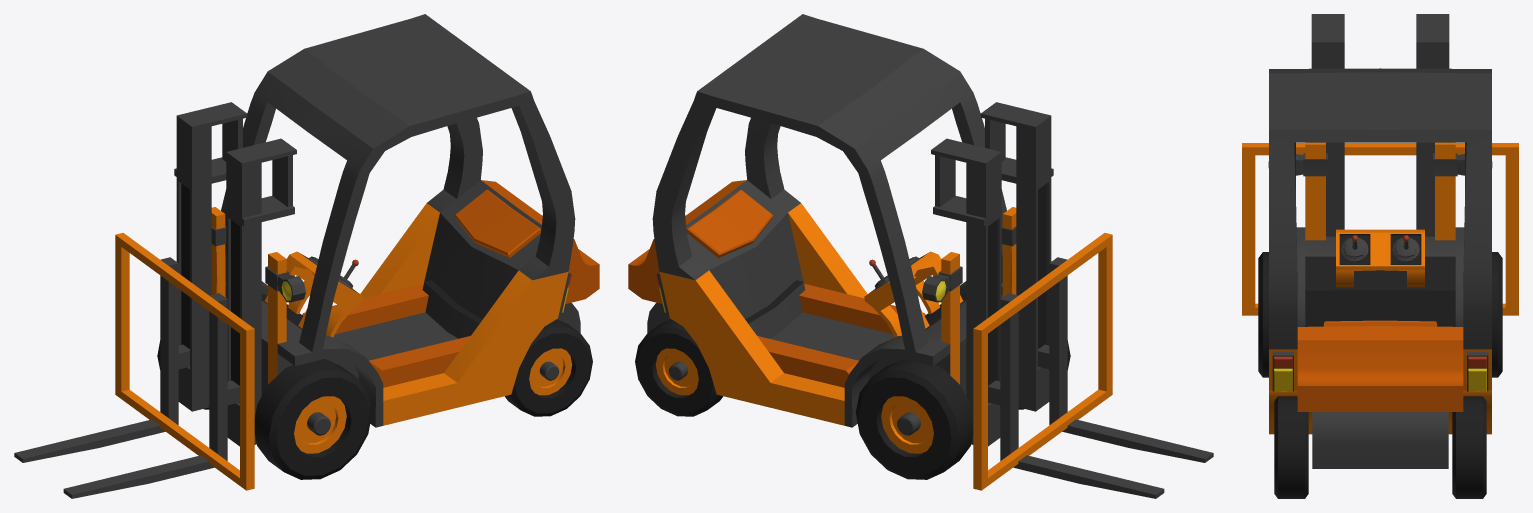
The model's file is Forklift.fbx.
3 views of the same model, side by side, from view 1: azimuth 30°, elevation 25°; view 2: azimuth 150°, elevation 25°; view 3: azimuth 270°, elevation 25° (orthographic). The views are drawn at different scales.
Visible parts, largest first — view 1: Base, Lifter, Wheel_Front_Left, Wheel_Rear_Left; view 2: Base, Lifter, Wheel_Front_Right, Wheel_Rear_Right; view 3: Base, Lifter, Wheel_Rear_Right, Wheel_Rear_Left, Wheel_Front_Right, Wheel_Front_Left.
Part boxes in pixels (x1,y1,x2,y2): Base: (174, 14, 599, 446); Lifter: (14, 233, 254, 498); Wheel_Front_Left: (254, 359, 372, 479); Wheel_Rear_Left: (505, 319, 592, 416); Base: (628, 14, 1053, 446); Lifter: (973, 233, 1213, 498); Wheel_Front_Right: (855, 359, 973, 479); Wheel_Rear_Right: (635, 319, 722, 416); Base: (1268, 14, 1492, 468); Lifter: (1242, 143, 1518, 315); Wheel_Rear_Right: (1452, 396, 1486, 498); Wheel_Rear_Left: (1274, 396, 1308, 498); Wheel_Front_Right: (1492, 252, 1502, 377); Wheel_Front_Left: (1258, 252, 1268, 377).
Size of the model in its own units: 340 by 210 by 150.
